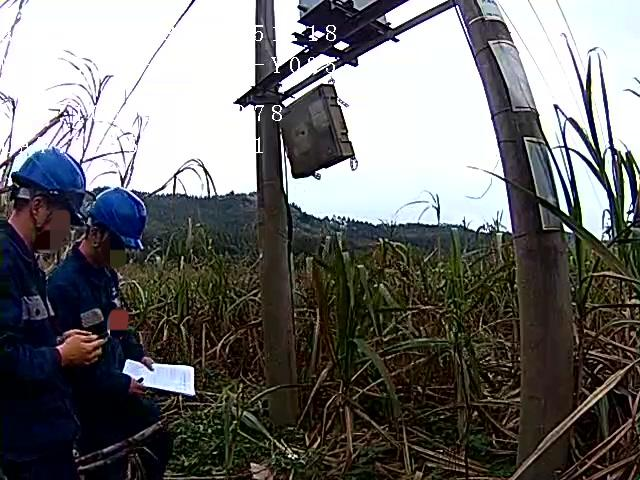halt: (7, 151, 90, 247), (88, 191, 150, 266)
inear: (26, 191, 63, 245), (87, 229, 111, 258)
